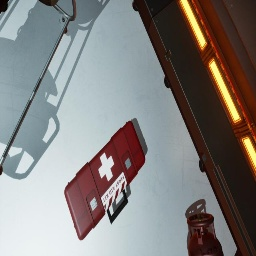FirstAidBox ,: (64, 121, 145, 241)
NitrogenTank ,: (186, 213, 224, 256)
